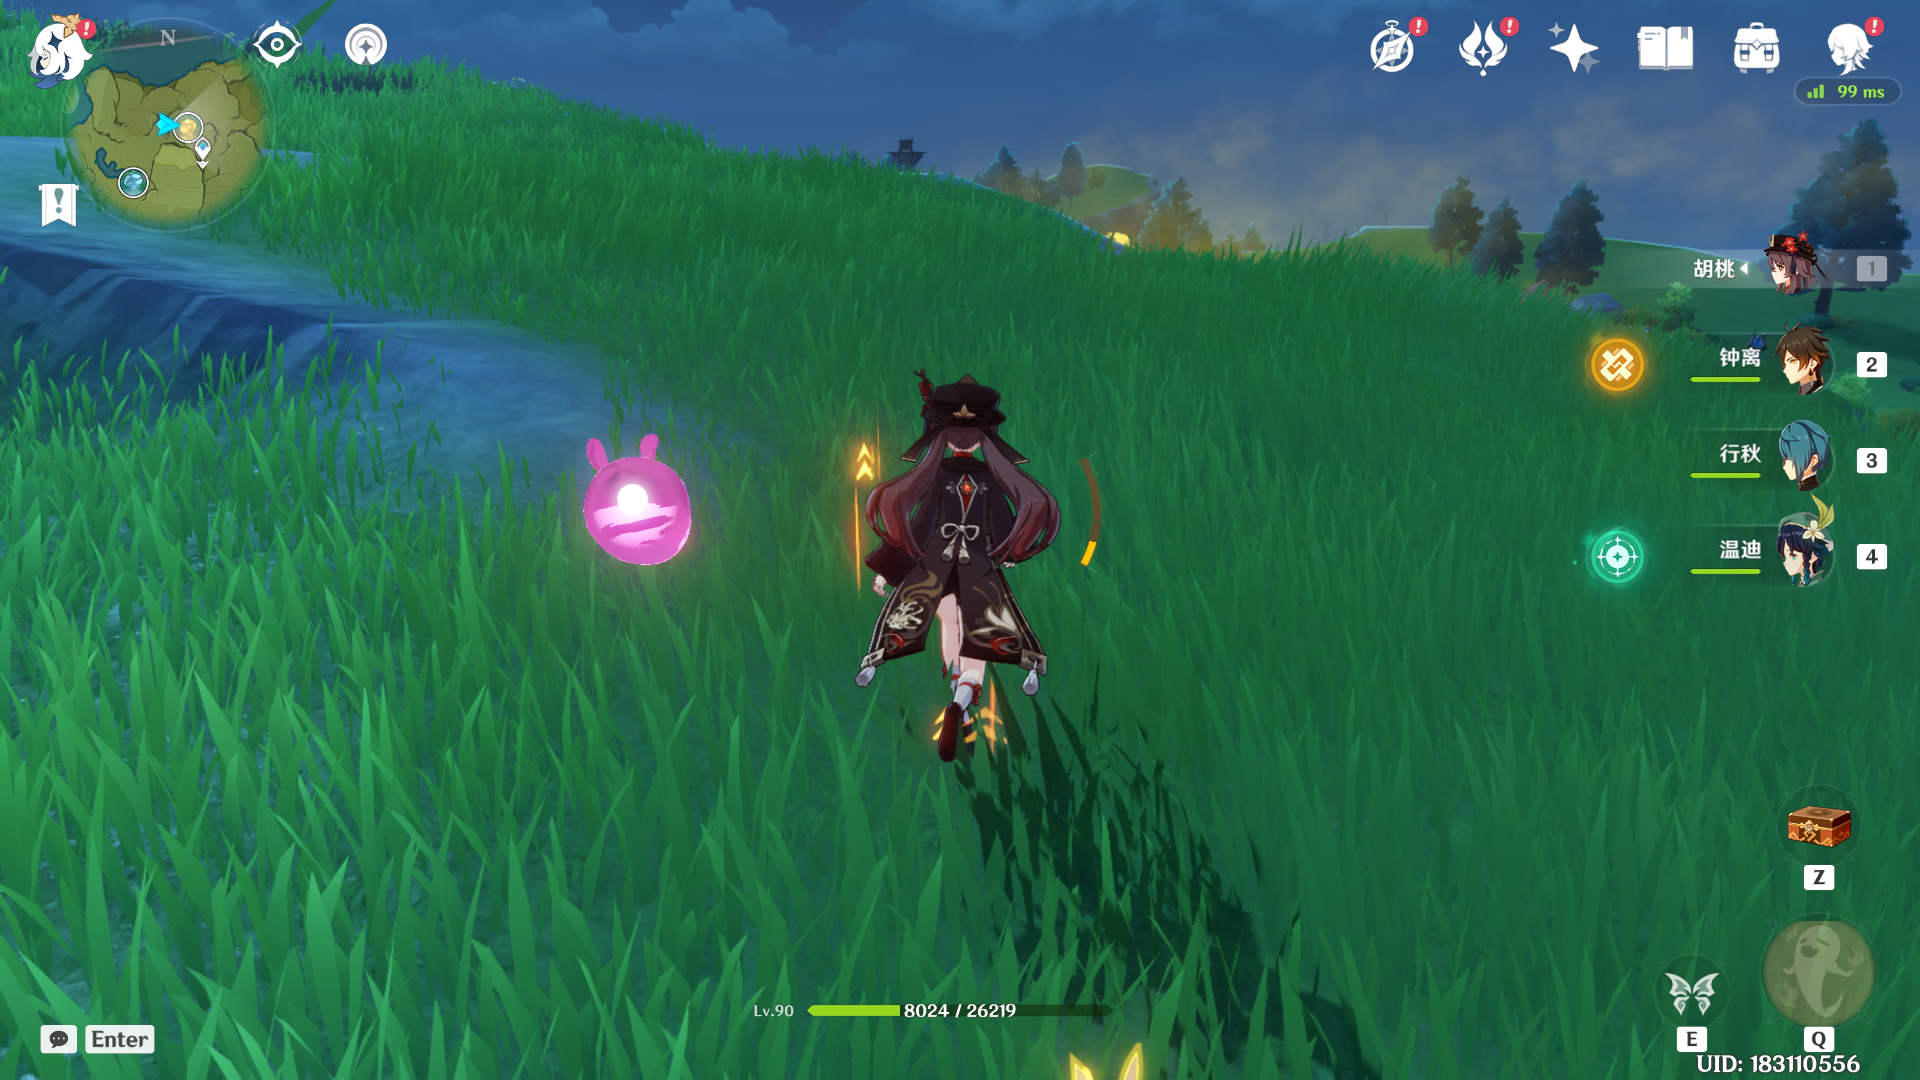character: (767, 367, 1075, 852)
